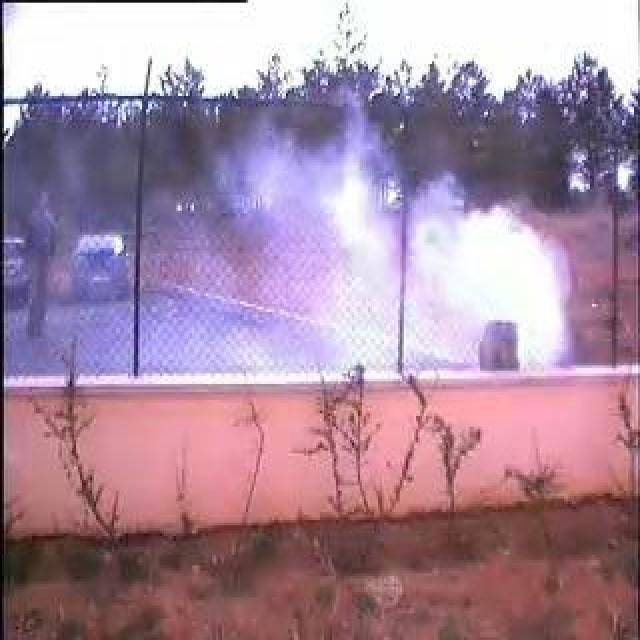Smoke: (234, 144, 568, 368)
